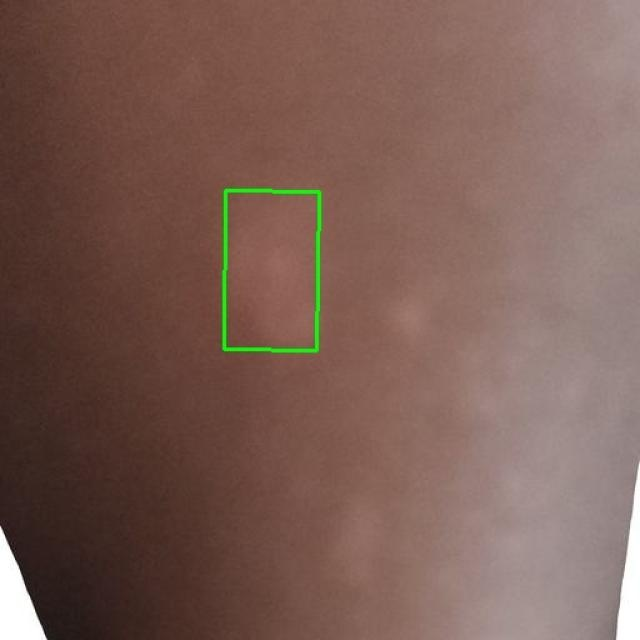Tinea Corporis: (224, 191, 319, 350)
